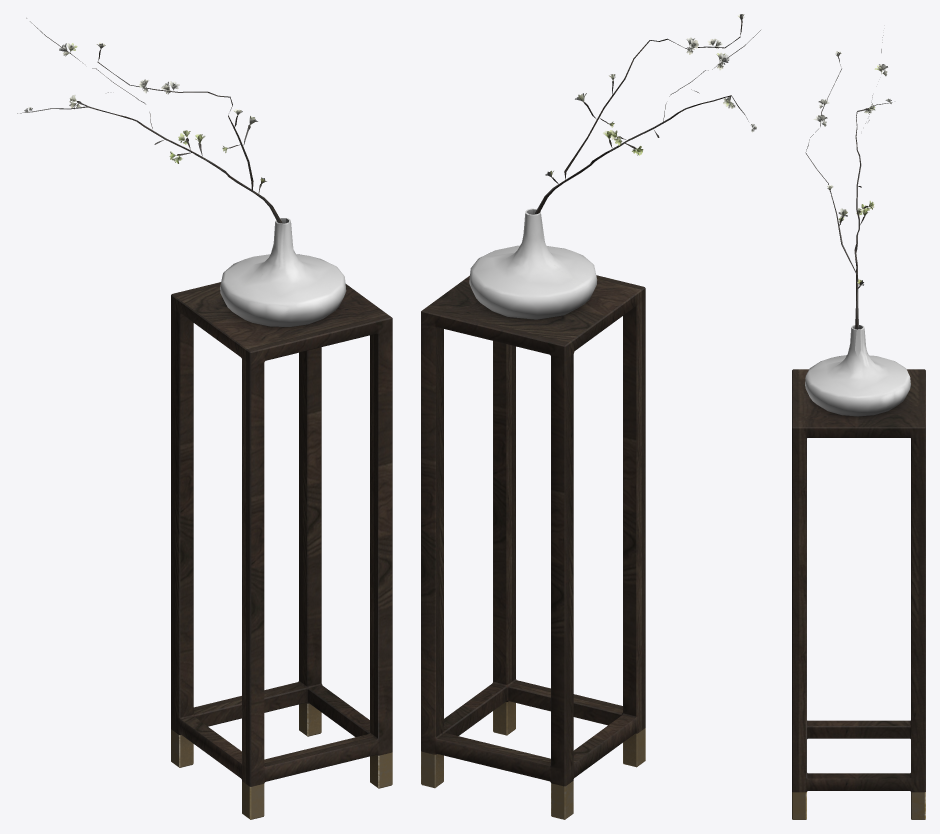
3 views of the same model, side by side, from view 1: azimuth 30°, elevation 25°; view 2: azimuth 150°, elevation 25°; view 3: azimuth 270°, elevation 25° (orthographic). The views are drawn at different scales.
Visible parts, largest first — view 1: solid_002, solid_004, solid_001, solid_005, glass_001; view 2: solid_002, solid_004, solid_001, solid_005, glass_001; view 3: solid_002, solid_004, solid_005, solid_001, glass_001.
Boxes of the visible parts, <box> form: solid_002: <box>171,282,392,786</box>; solid_004: <box>220,218,346,326</box>; solid_001: <box>171,703,392,819</box>; solid_005: <box>17,18,282,223</box>; glass_001: <box>24,42,266,184</box>; solid_002: <box>421,275,645,786</box>; solid_004: <box>469,208,597,319</box>; solid_001: <box>421,701,645,819</box>; solid_005: <box>535,20,760,214</box>; glass_001: <box>545,14,756,178</box>; solid_002: <box>792,369,925,792</box>; solid_004: <box>805,325,910,416</box>; solid_005: <box>805,35,892,329</box>; solid_001: <box>792,792,925,819</box>; glass_001: <box>813,51,891,285</box>.
Size of the model in its own units: 0.674 by 1.65 by 0.2948.
1 material, 1 textured.
